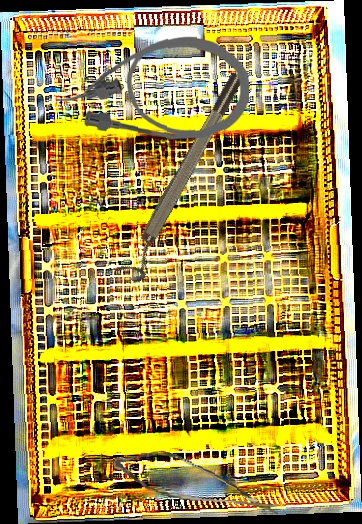Cannula: (55, 31, 251, 143)
Fixation Ring: (113, 70, 256, 286)
Micro Scissor: (111, 447, 283, 516)
